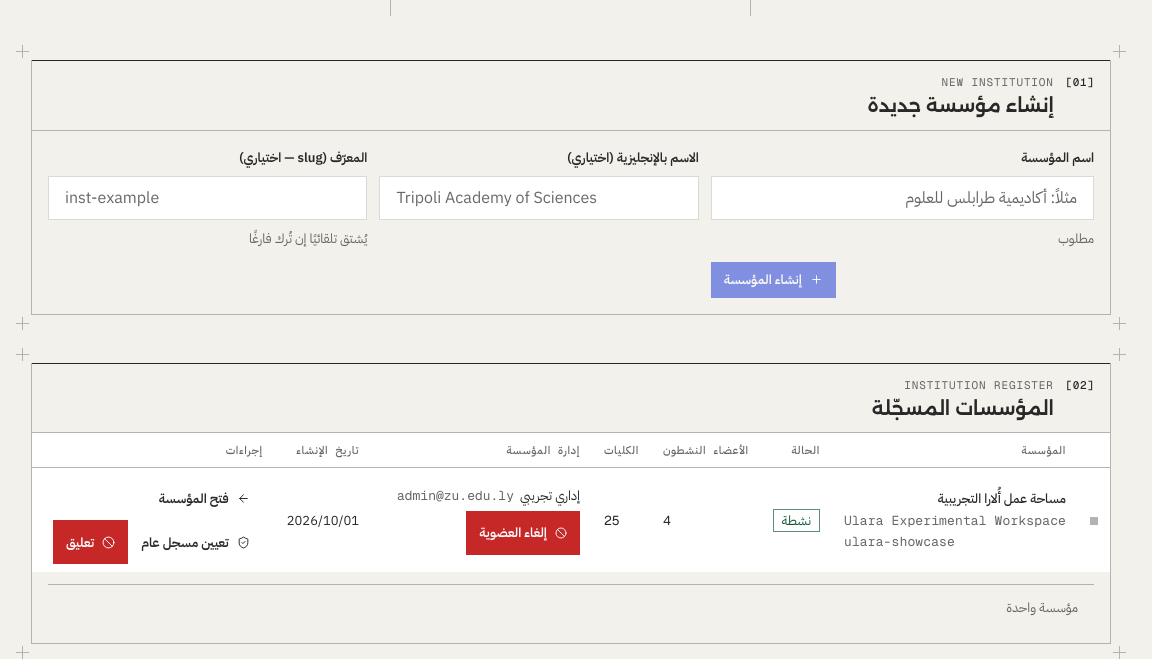
OwnerInstitutionsPage — membership revoke (r178) › confirms and revokes the admin membership by its membershipId
This screenshot has width=1152, height=659.
Later steps or results of the test are not shown.
(page scrolled)
Click the button "إلغاء العضوية" at (523, 533), box [466,511,580,555]
(page scrolled)
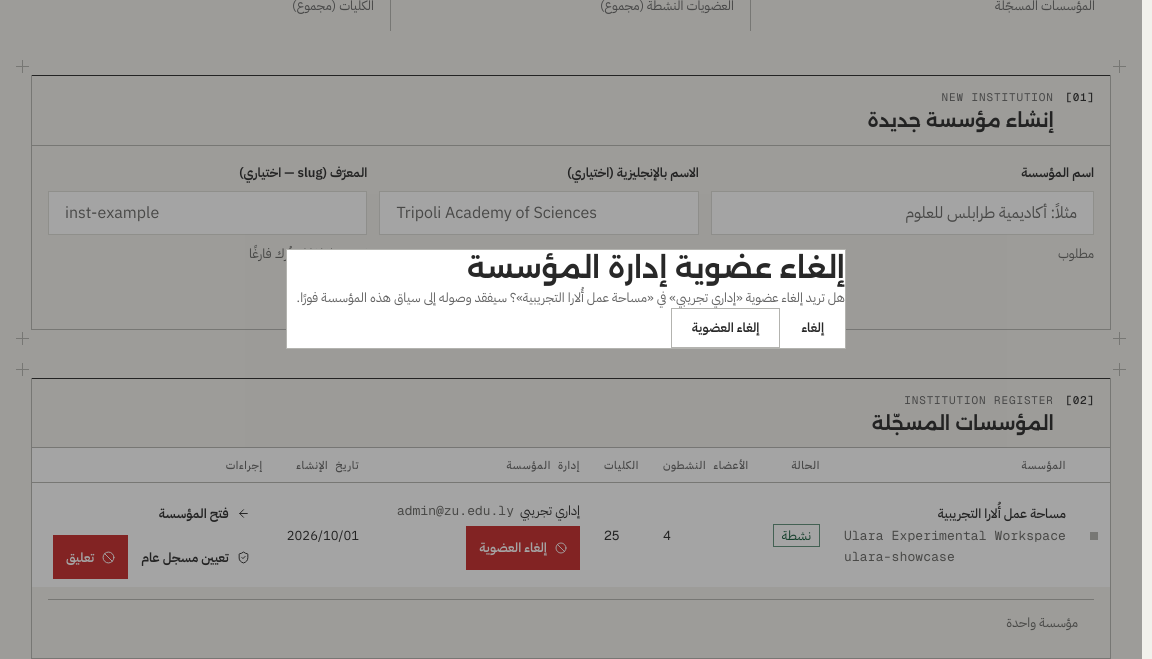
Check: the text "هل تريد إلغاء عضوية «إداري تجريبي»" is shown, box [297,288,845,307]
